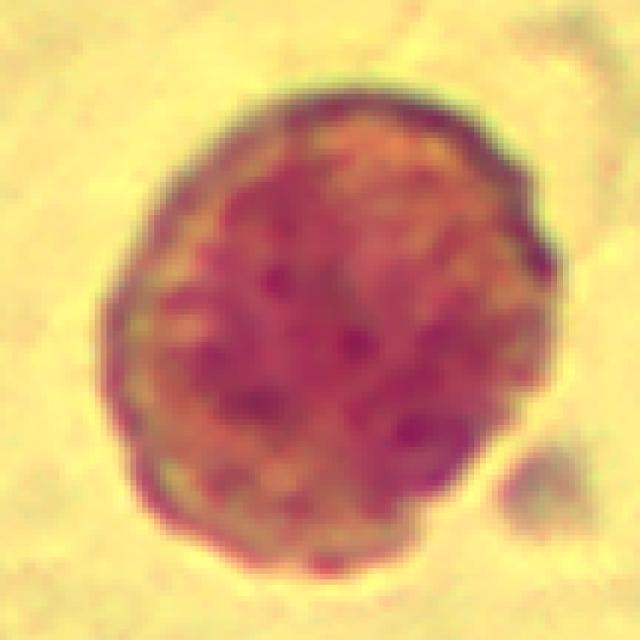WBC: (65, 78, 593, 602)
